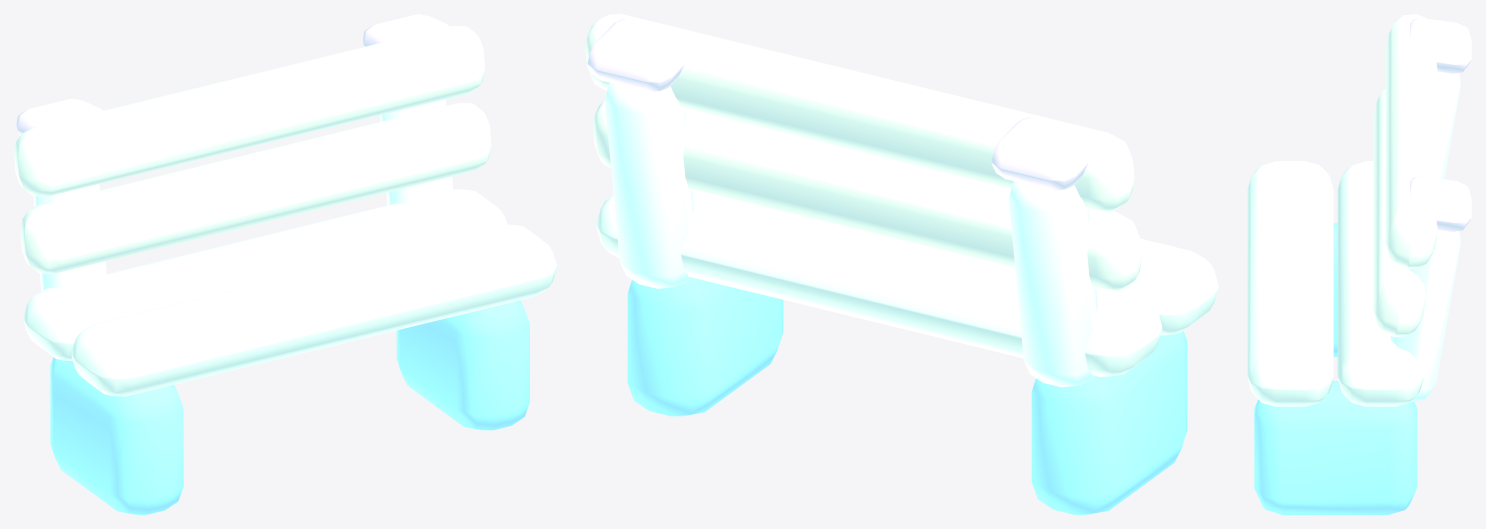
Rendered from props__HubBench.glb.
The picture shows the model from 3 angles, left to right: view 1: azimuth 30°, elevation 25°; view 2: azimuth 150°, elevation 25°; view 3: azimuth 270°, elevation 25°; orthographic projection. The views are drawn at different scales.
Visible parts, largest first — view 1: HubBench; view 2: HubBench; view 3: HubBench.
Boxes of the visible parts, left/top/right/bottom form: HubBench: left=14, top=14, right=556, bottom=514; HubBench: left=585, top=14, right=1218, bottom=514; HubBench: left=1247, top=14, right=1471, bottom=514.
Bounding box in the file's own units: 5.2 × 3.72 × 2.34.
